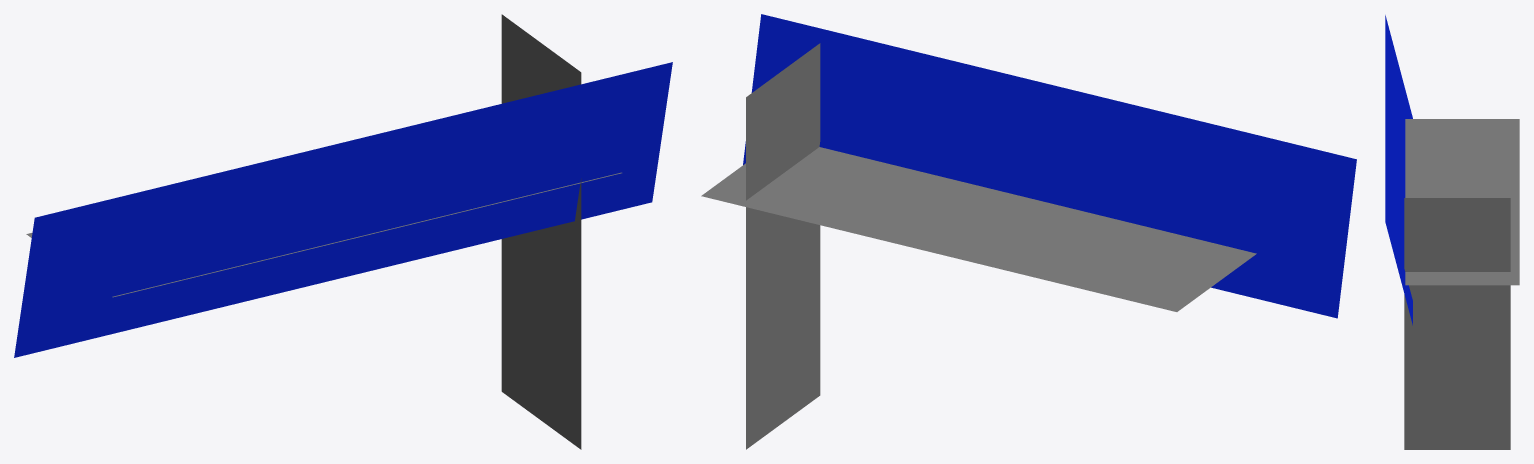
The model's file is Level Scenario.fbx.
3 renders of one model, left to right at view 1: azimuth 30°, elevation 25°; view 2: azimuth 150°, elevation 25°; view 3: azimuth 270°, elevation 25°, orthographic. The views are drawn at different scales.
Visible parts, largest first — view 1: Plane__1_, Plane__4_, Plane; view 2: Plane__1_, Plane, Plane__4_; view 3: Plane__4_, Plane, Plane__1_.
Boxes of the visible parts, x1,y1,x2,y2 form: Plane__1_: [14, 62, 672, 357]; Plane__4_: [501, 14, 581, 449]; Plane: [26, 172, 621, 297]; Plane__1_: [743, 14, 1356, 318]; Plane: [701, 147, 1256, 311]; Plane__4_: [746, 43, 820, 449]; Plane__4_: [1404, 198, 1510, 449]; Plane: [1405, 119, 1519, 285]; Plane__1_: [1385, 15, 1412, 325].
Bounding box in the file's own units: 2419 × 1374 × 661.
